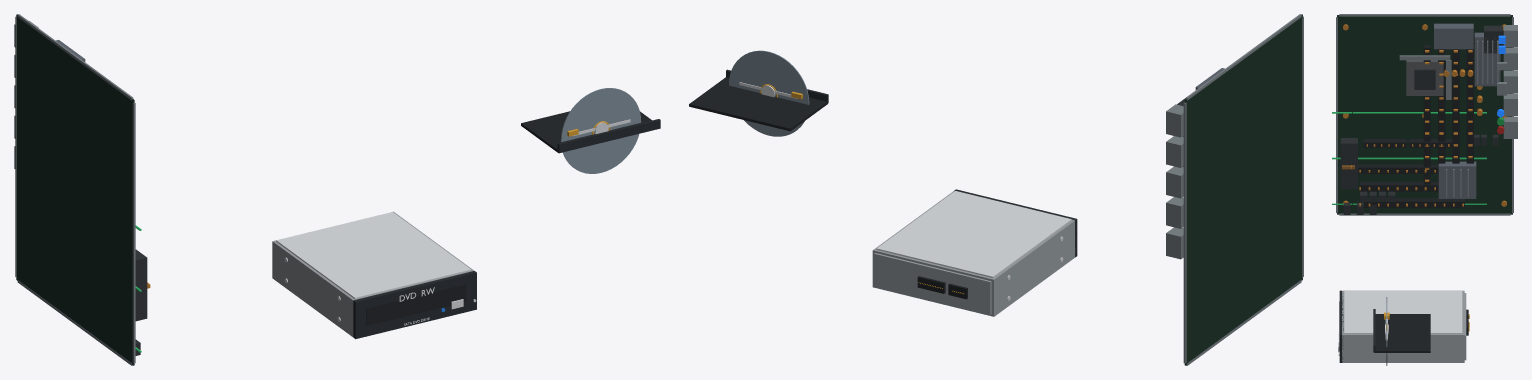
Rendered from motherboard.glb.
3 renders of one model, left to right at view 1: azimuth 30°, elevation 25°; view 2: azimuth 150°, elevation 25°; view 3: azimuth 270°, elevation 25°, orthographic. The views are drawn at different scales.
Visible parts, largest first — view 1: MB_PCB.001, OPTICAL_TopCover, OPTICAL_Disc, OPTICAL_Enclosure, OPTICAL_FrontBezel, OPTICAL_TraySlot, OPTICAL_TrayBase, OPTICAL_TrayLip, MB_PCB_Edge_Front.001, MB_24Pin_ATX.001, MB_PCB_Edge_Top.001, MB_PCB_Edge_Rear.001; view 2: MB_PCB.001, OPTICAL_TopCover, OPTICAL_Enclosure, OPTICAL_RearPanel, OPTICAL_TrayBase, OPTICAL_Disc, MB_PCB_Edge_Rear.001, MB_PCB_Edge_Top.001, MB_RearIO_Block_01.001, MB_RearIO_Block_03.001, MB_RearIO_Block_04.001, MB_RearIO_Block_02.001 (+2 smaller); view 3: MB_PCB.001, OPTICAL_TopCover, OPTICAL_Enclosure, OPTICAL_TrayBase, MB_ChipsetHeatsink.001, MB_VRMHeatsink_Top.001, MB_24Pin_ATX.001, MB_CPUSocket.001, MB_VRMHeatsink_Left.001, MB_PCIeSlot_03.001, MB_DIMMSlot_01.001, MB_DIMMSlot_02.001 (+21 smaller).
Boxes of the visible parts, <box> form: MB_PCB.001: <box>16,14,134,365</box>; OPTICAL_TopCover: <box>276,212,471,299</box>; OPTICAL_Disc: <box>560,88,641,173</box>; OPTICAL_Enclosure: <box>272,211,474,336</box>; OPTICAL_FrontBezel: <box>353,271,476,339</box>; OPTICAL_TraySlot: <box>366,284,466,325</box>; OPTICAL_TrayBase: <box>521,111,651,152</box>; OPTICAL_TrayLip: <box>557,119,660,153</box>; MB_PCB_Edge_Front.001: <box>132,102,135,363</box>; MB_24Pin_ATX.001: <box>135,249,147,321</box>; MB_PCB_Edge_Top.001: <box>17,14,133,100</box>; MB_PCB_Edge_Rear.001: <box>15,16,16,277</box>; MB_PCB.001: <box>1184,14,1302,365</box>; OPTICAL_TopCover: <box>876,191,1071,277</box>; OPTICAL_Enclosure: <box>872,191,1075,316</box>; OPTICAL_RearPanel: <box>874,253,991,314</box>; OPTICAL_TrayBase: <box>689,77,827,131</box>; OPTICAL_Disc: <box>729,50,809,136</box>; MB_PCB_Edge_Rear.001: <box>1183,102,1186,363</box>; MB_PCB_Edge_Top.001: <box>1185,14,1301,100</box>; MB_RearIO_Block_01.001: <box>1166,104,1183,137</box>; MB_RearIO_Block_03.001: <box>1166,166,1183,198</box>; MB_RearIO_Block_04.001: <box>1166,197,1183,228</box>; MB_RearIO_Block_02.001: <box>1166,136,1183,167</box>; MB_PCB.001: <box>1337,15,1512,214</box>; OPTICAL_TopCover: <box>1344,290,1462,333</box>; OPTICAL_Enclosure: <box>1342,290,1464,362</box>; OPTICAL_TrayBase: <box>1374,314,1430,352</box>; MB_ChipsetHeatsink.001: <box>1438,161,1476,198</box>; MB_VRMHeatsink_Top.001: <box>1434,23,1473,49</box>; MB_24Pin_ATX.001: <box>1340,138,1357,189</box>; MB_CPUSocket.001: <box>1406,60,1443,95</box>; MB_VRMHeatsink_Left.001: <box>1474,32,1500,86</box>; MB_PCIeSlot_03.001: <box>1363,198,1464,207</box>; MB_DIMMSlot_01.001: <box>1466,45,1473,163</box>; MB_DIMMSlot_02.001: <box>1452,49,1459,163</box>.
Size of the model in its own units: 0.6635 by 0.3403 by 0.258.
